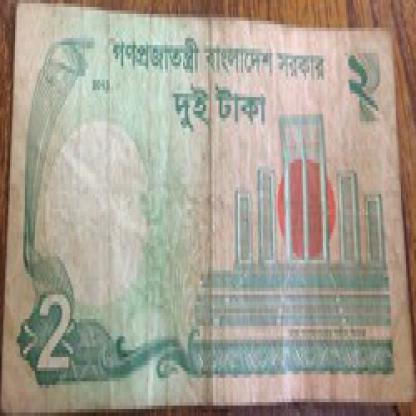two taka: (336, 42, 385, 135), (35, 291, 75, 395)
